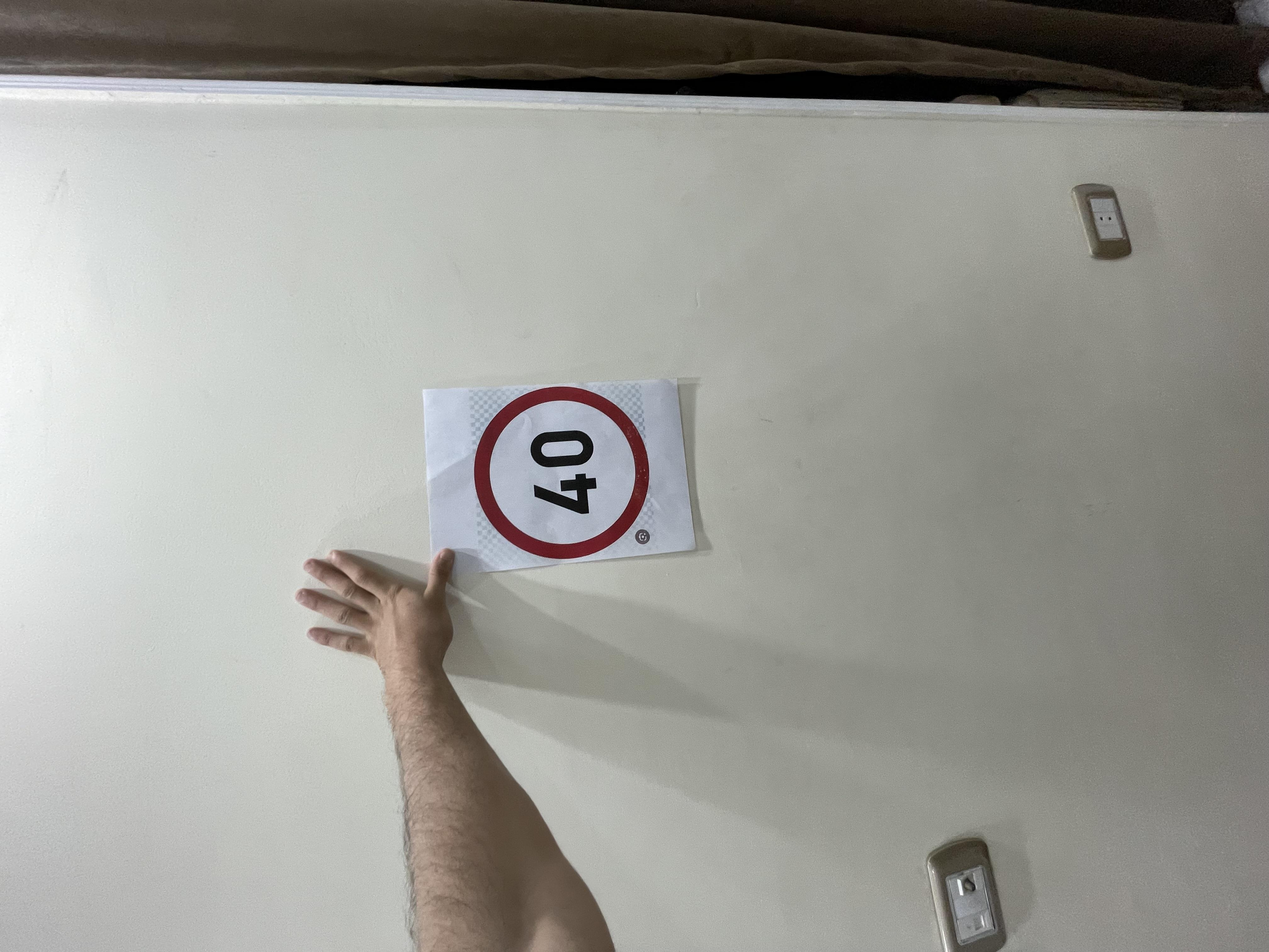40-Speed: (520, 353, 758, 491)
